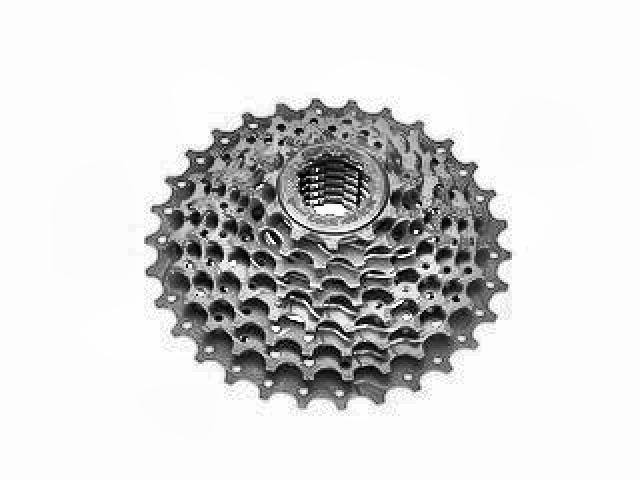cassette: (142, 96, 515, 411)
